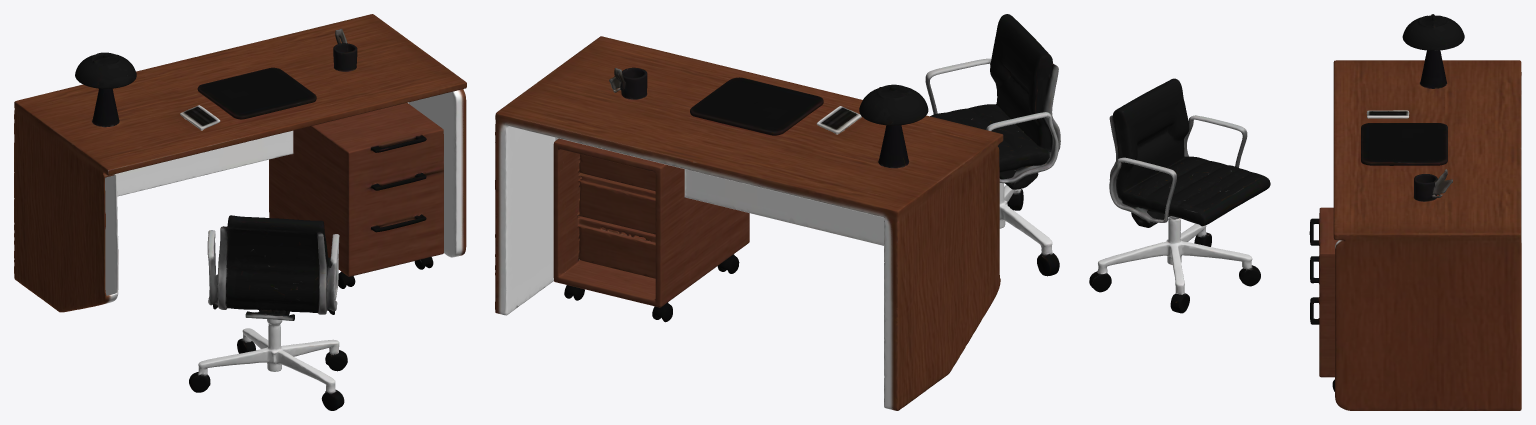
File: Office Desk.glb
3 views of the same model, side by side, from view 1: azimuth 30°, elevation 25°; view 2: azimuth 150°, elevation 25°; view 3: azimuth 270°, elevation 25° (orthographic). The views are drawn at different scales.
Visible parts, largest first — view 1: world; view 2: world; view 3: world.
Part boxes in pixels (<box>): world: <box>14,14,466,410</box>; world: <box>495,14,1060,410</box>; world: <box>1089,14,1521,410</box>.
Bounding box in the file's own units: 0.958 × 0.6288 × 1.
Materials: 1 (1 with a texture image).
